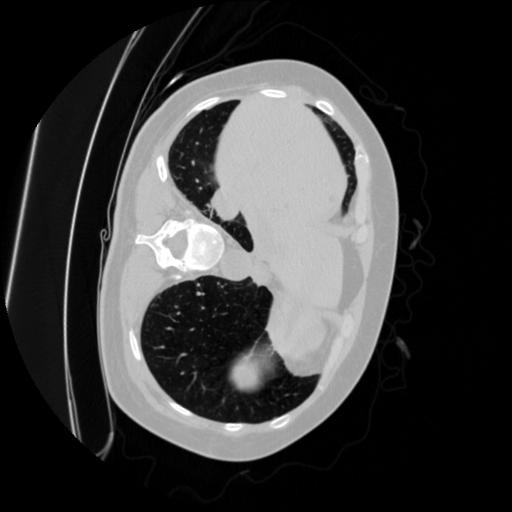nodule: (209, 190, 241, 222)
